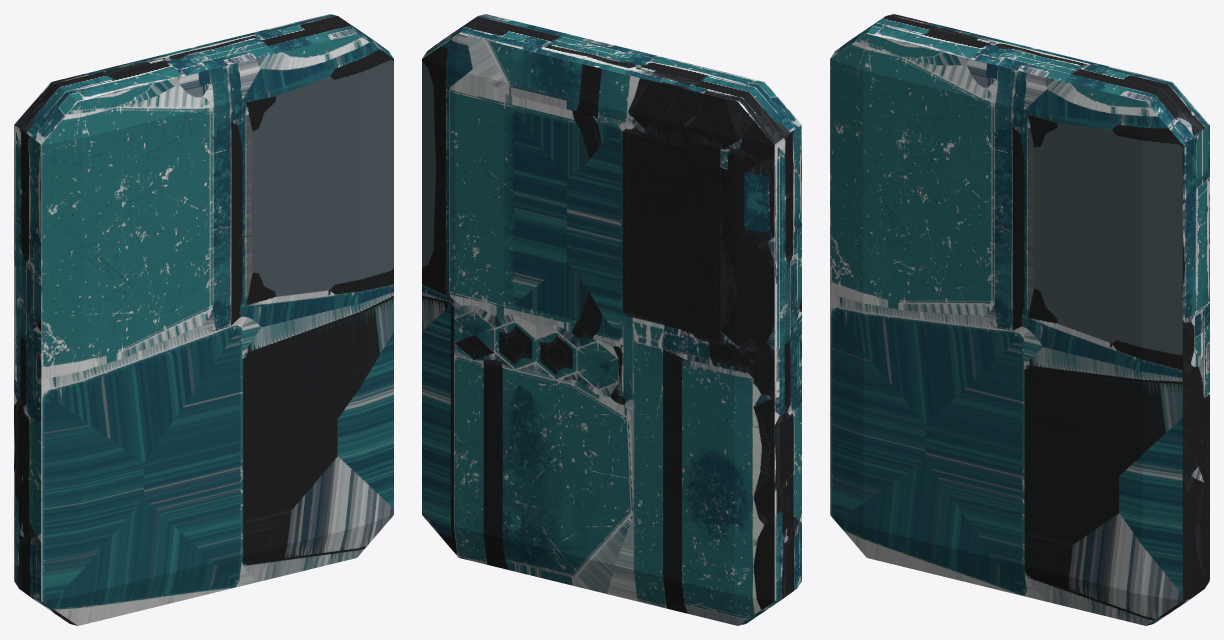
File: MirrorSolo.gltf
The picture shows the model from 3 angles, left to right: view 1: azimuth 30°, elevation 25°; view 2: azimuth 150°, elevation 25°; view 3: azimuth 330°, elevation 25°; orthographic projection.
Parts seen in each view (by area): view 1: Cube.037; view 2: Cube.037; view 3: Cube.037.
Part boxes in pixels (box(x1,y1,x2,y2)): Cube.037: box(14, 14, 393, 625); Cube.037: box(422, 14, 801, 625); Cube.037: box(830, 14, 1209, 625).
Size of the model in its own units: 2.02 by 2.87 by 0.3377.
